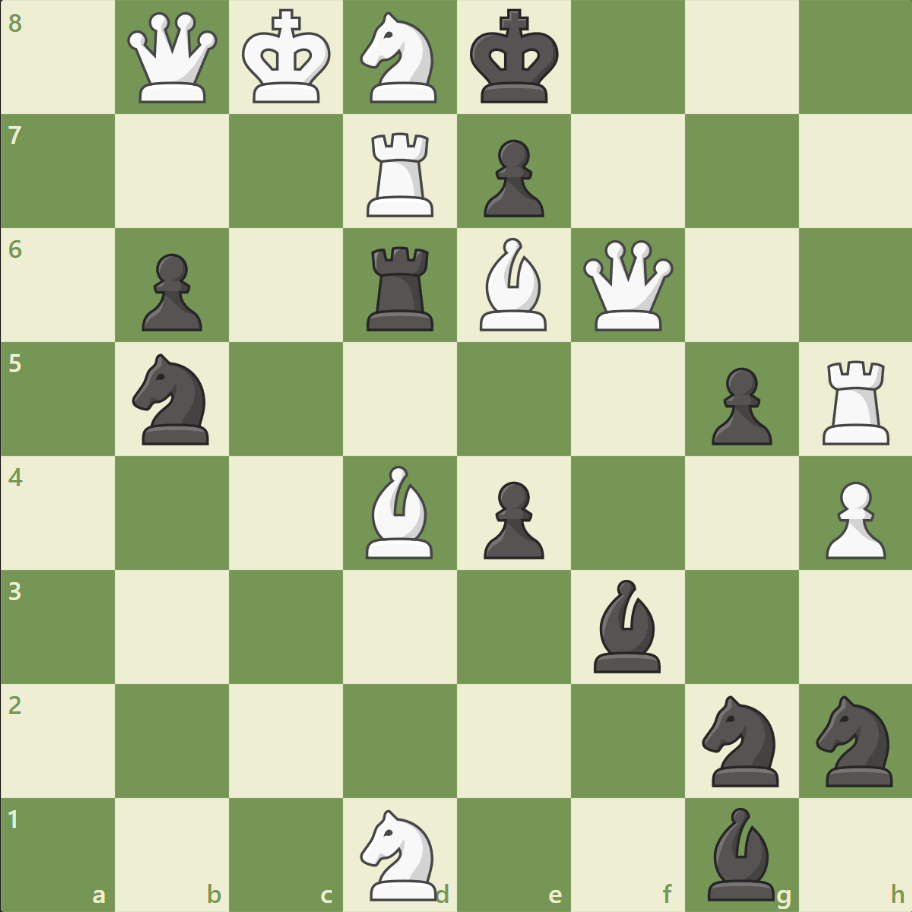B: (471, 233, 555, 336), (358, 460, 442, 563)
K: (238, 4, 338, 112)
N: (351, 7, 449, 110), (351, 802, 449, 904)
P: (815, 473, 889, 564)
Q: (124, 9, 223, 108), (578, 236, 677, 335)
R: (814, 352, 897, 449), (360, 125, 442, 222)
b: (698, 801, 782, 904), (585, 574, 669, 676)
k: (465, 4, 565, 112)
n: (124, 348, 222, 450), (692, 688, 789, 791), (806, 688, 903, 791)
p: (474, 132, 549, 223), (133, 246, 208, 337), (701, 359, 776, 450), (474, 473, 549, 564)
r: (360, 239, 442, 336)
